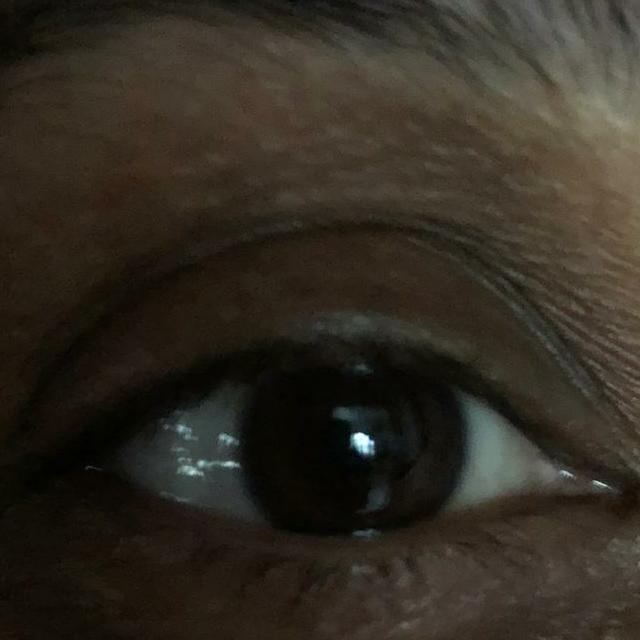eye: (96, 358, 561, 542)
iris: (242, 368, 467, 536)
